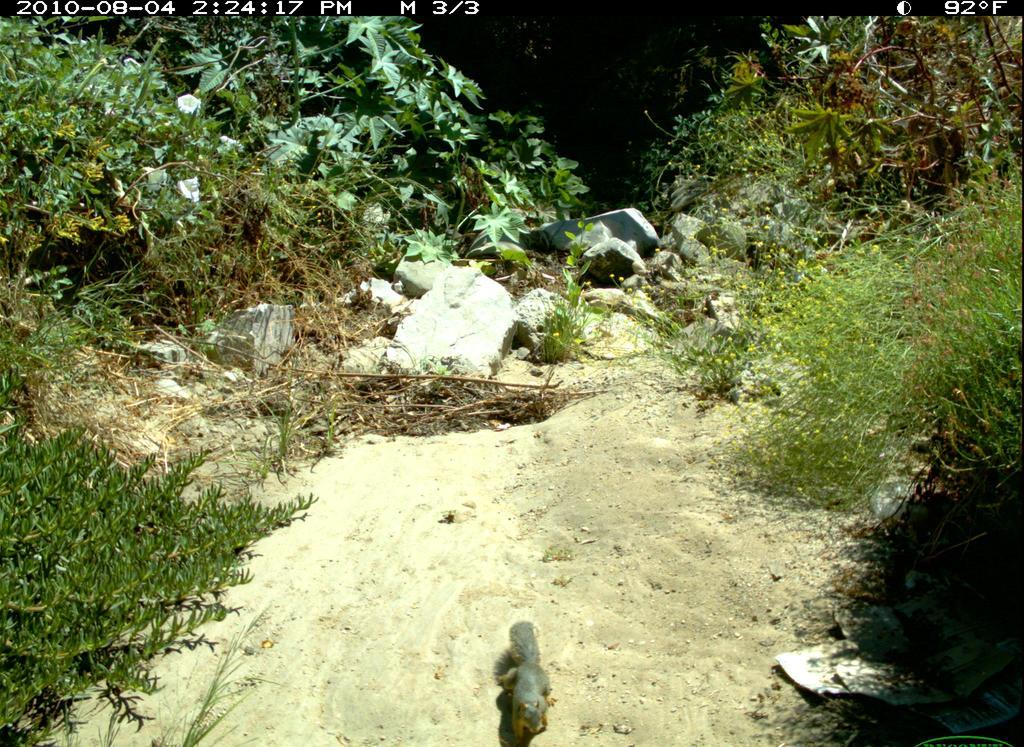squirrel: (491, 617, 562, 747)
